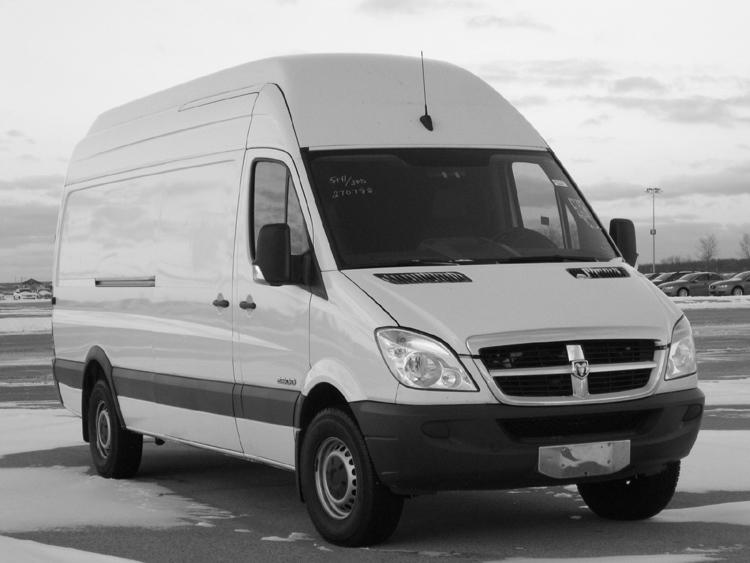car: (56, 56, 708, 545)
